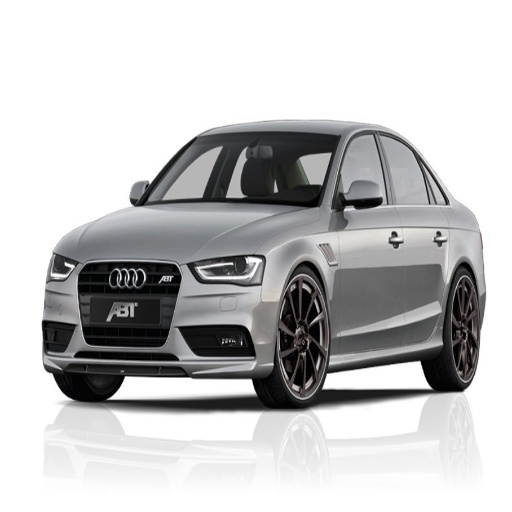back_glass: (378, 130, 450, 342)
back_right_light: (43, 255, 285, 379)
front_bumper: (135, 136, 338, 206)
front_glass: (331, 128, 406, 353)
front_left_door: (194, 254, 265, 285)
front_right_light: (57, 206, 310, 262)
trunk: (257, 270, 329, 406), (426, 271, 480, 390), (57, 373, 121, 402)
